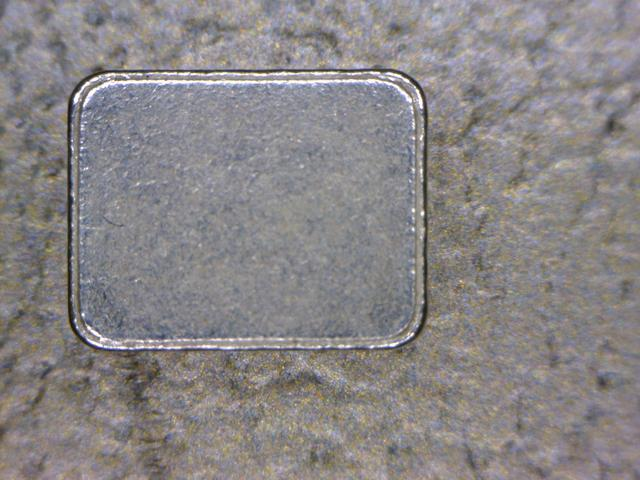nok: (63, 62, 438, 359)
